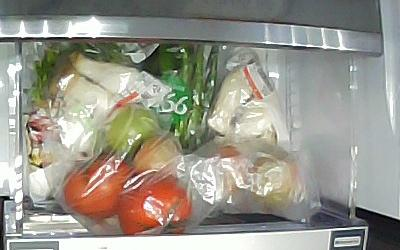tomato_vinyl: (117, 169, 193, 234), (62, 149, 132, 219), (103, 104, 160, 159), (249, 152, 298, 208), (132, 138, 180, 172)
